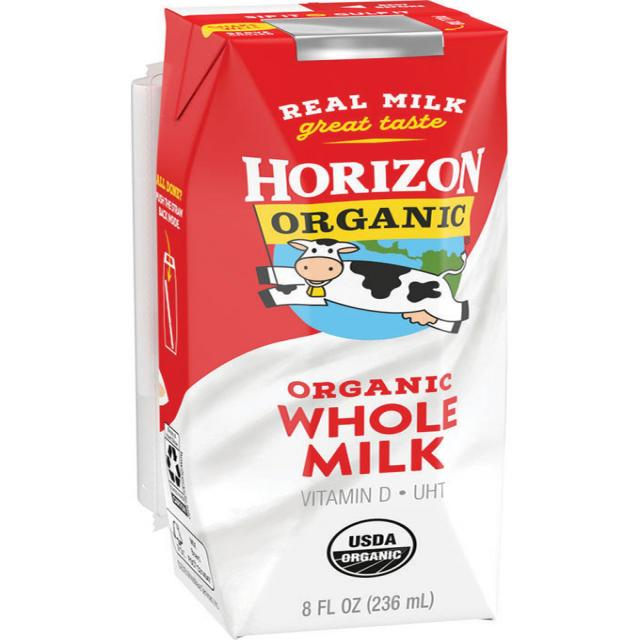non_white_jug: (118, 8, 530, 632)
